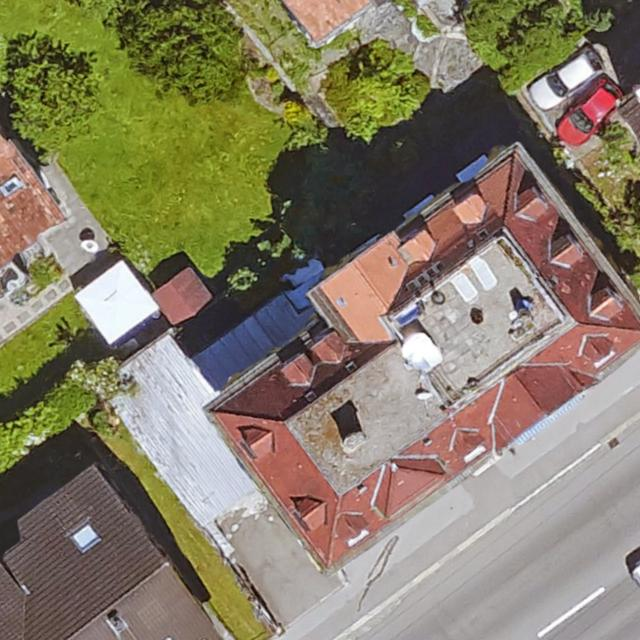tree: (126, 0, 245, 92), (11, 55, 92, 146)
